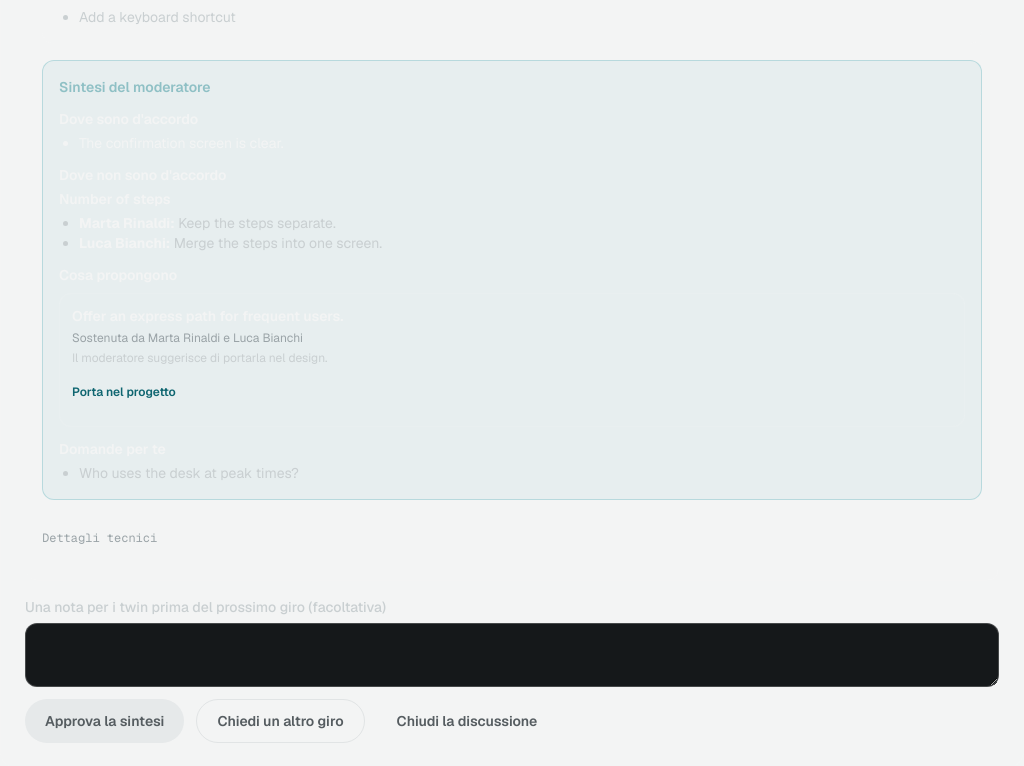
ProjectDesignDiscussionPanel and a discussion still being written › waits for a round started before a reload and shows it when it is ready
(page scrolled)
Expected: the button with test id "discussion-approve" is disabled, x1=25 y1=699 x2=184 y2=743
Click the button with test id "discussion-next-round" at (280, 721), box x1=196 y1=699 x2=365 y2=743
Wait 4000 ms
(page scrolled)
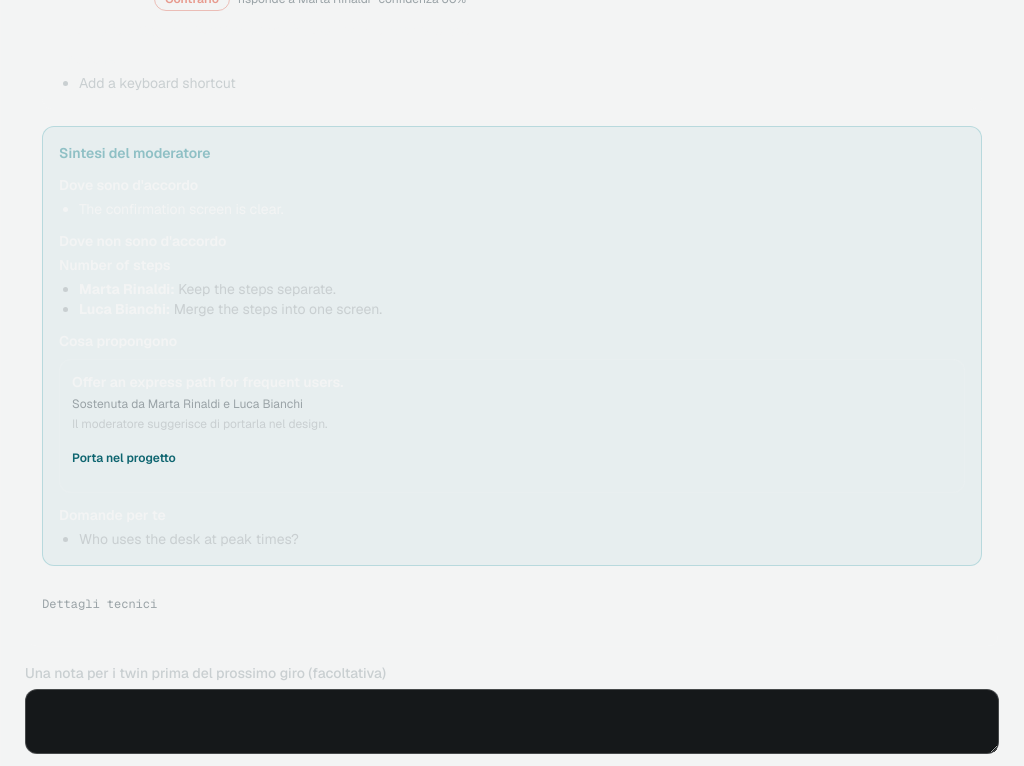
Result: the number of elements with test id "discussion-round" is 2
